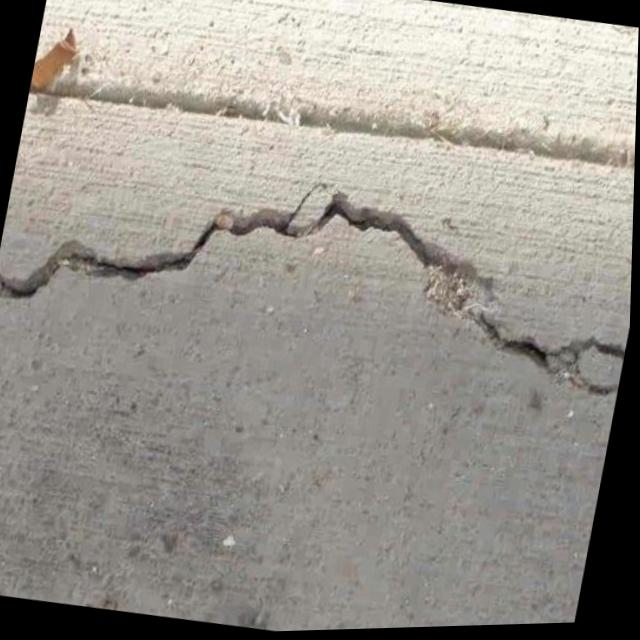Crack: (206, 175, 636, 406), (0, 210, 205, 322)
